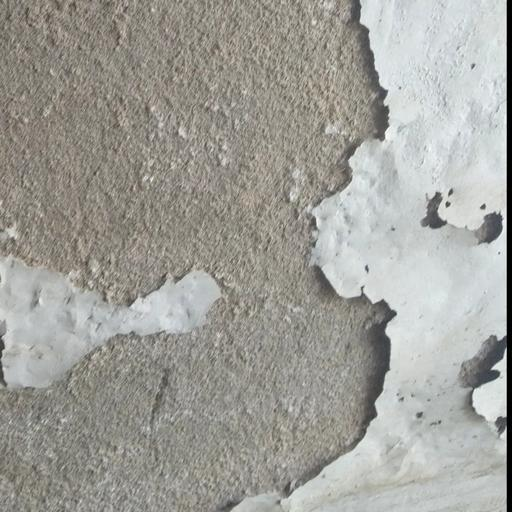peeling: (0, 0, 403, 511), (456, 314, 512, 436), (417, 186, 512, 244)
